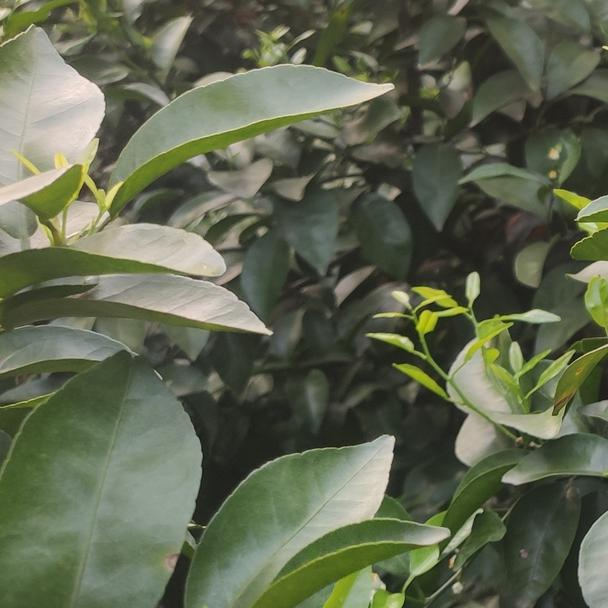shoot: (375, 289, 492, 412)
